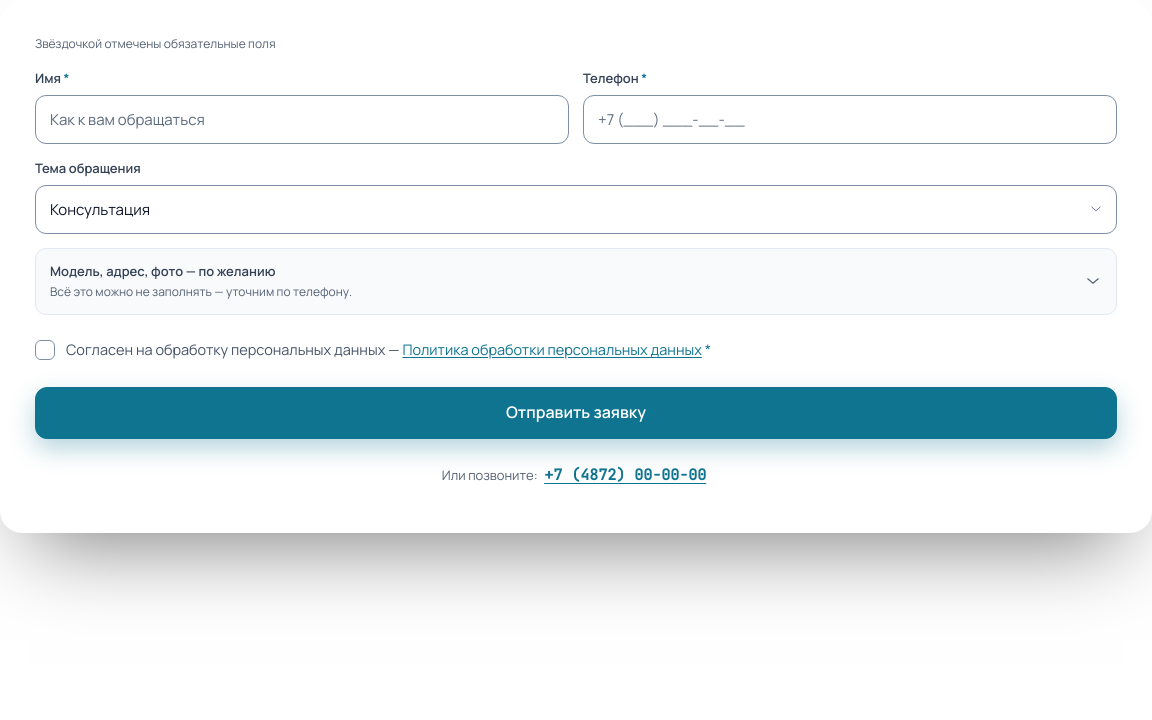
Test: LeadForm › ошибка сервера объясняет, что делать, и оставляет телефон
Type "Ирина" into the field labelled "Имя *".
click(302, 119); type("Ирина")  # box [35, 95, 569, 144]
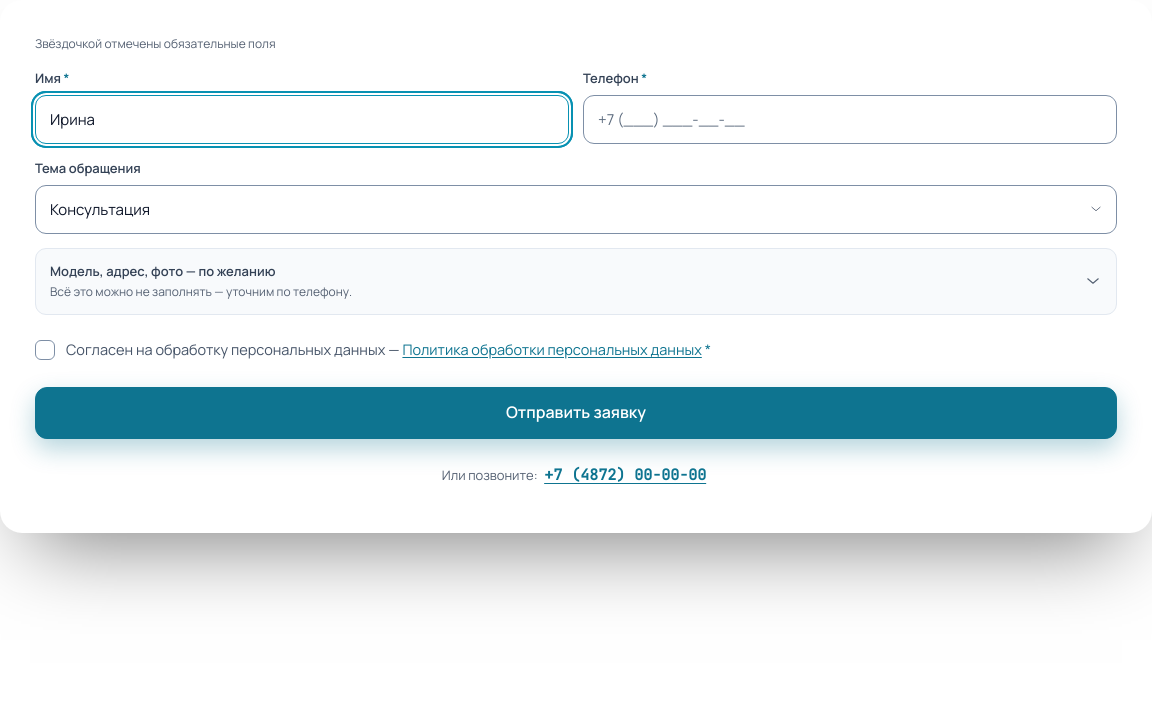
Type "+7 900 123-45-67" into the field labelled "Телефон *".
click(850, 119); type("+7 900 123-45-67")  # box [583, 95, 1117, 144]
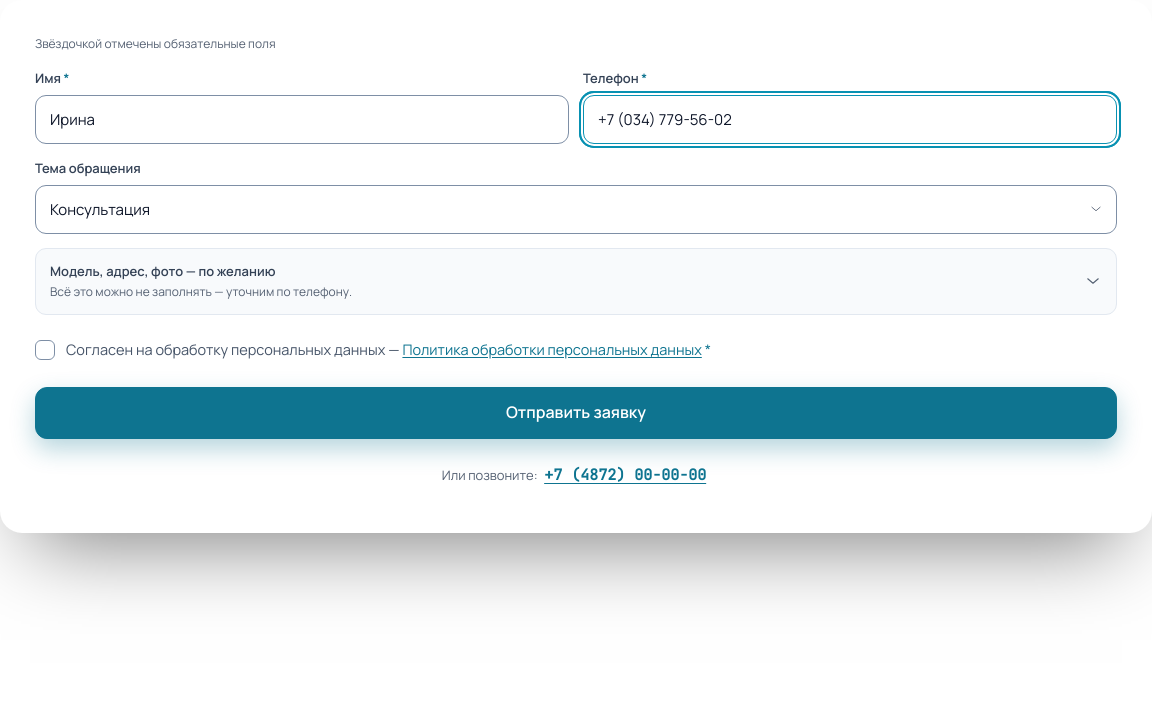
Click the checkbox.
click(45, 350)  # box [35, 340, 55, 360]
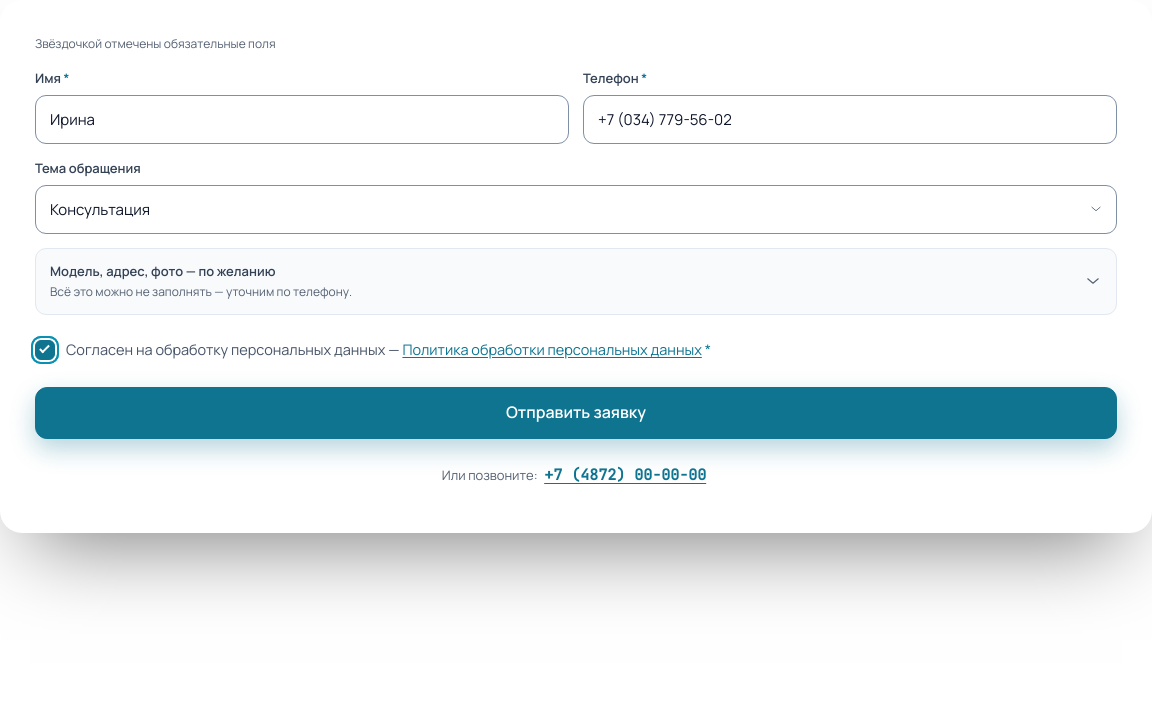
Click the button "Отправить заявку".
click(576, 413)  # box [35, 387, 1117, 439]
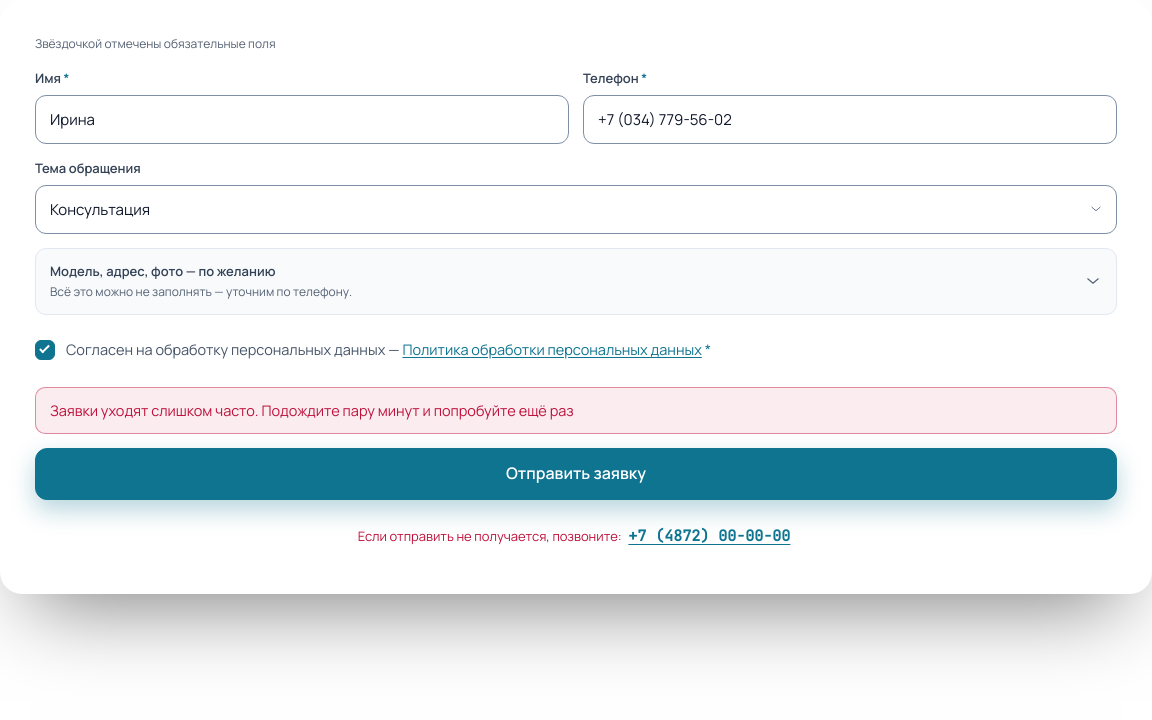
Result: the text "Заявки уходят слишком часто. Подождите пару минут и попробуйте ещё раз" is shown at [50, 401, 574, 420]
